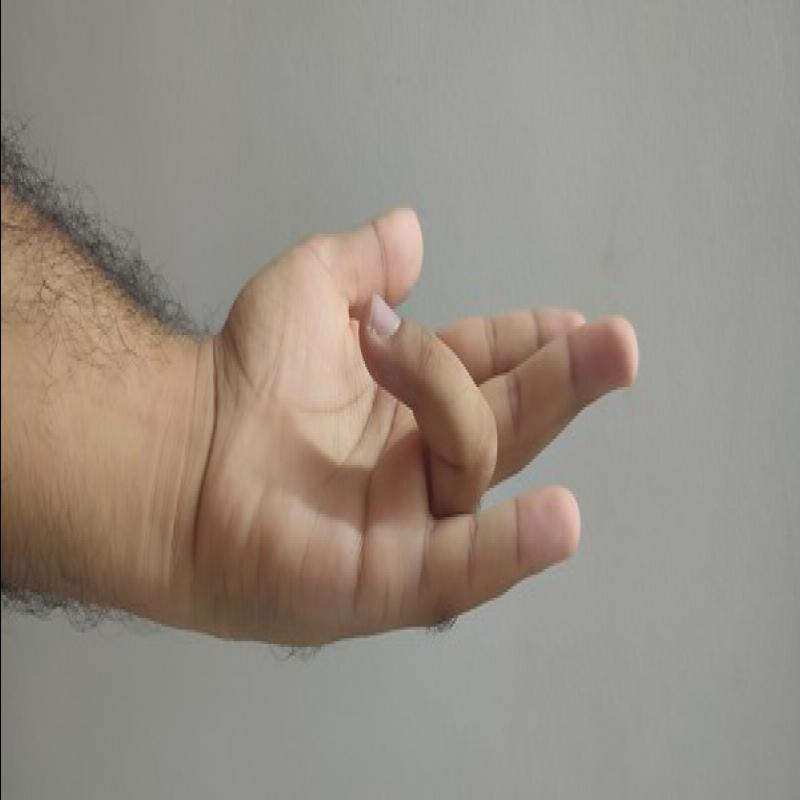Pathaaka: (186, 183, 646, 662)
